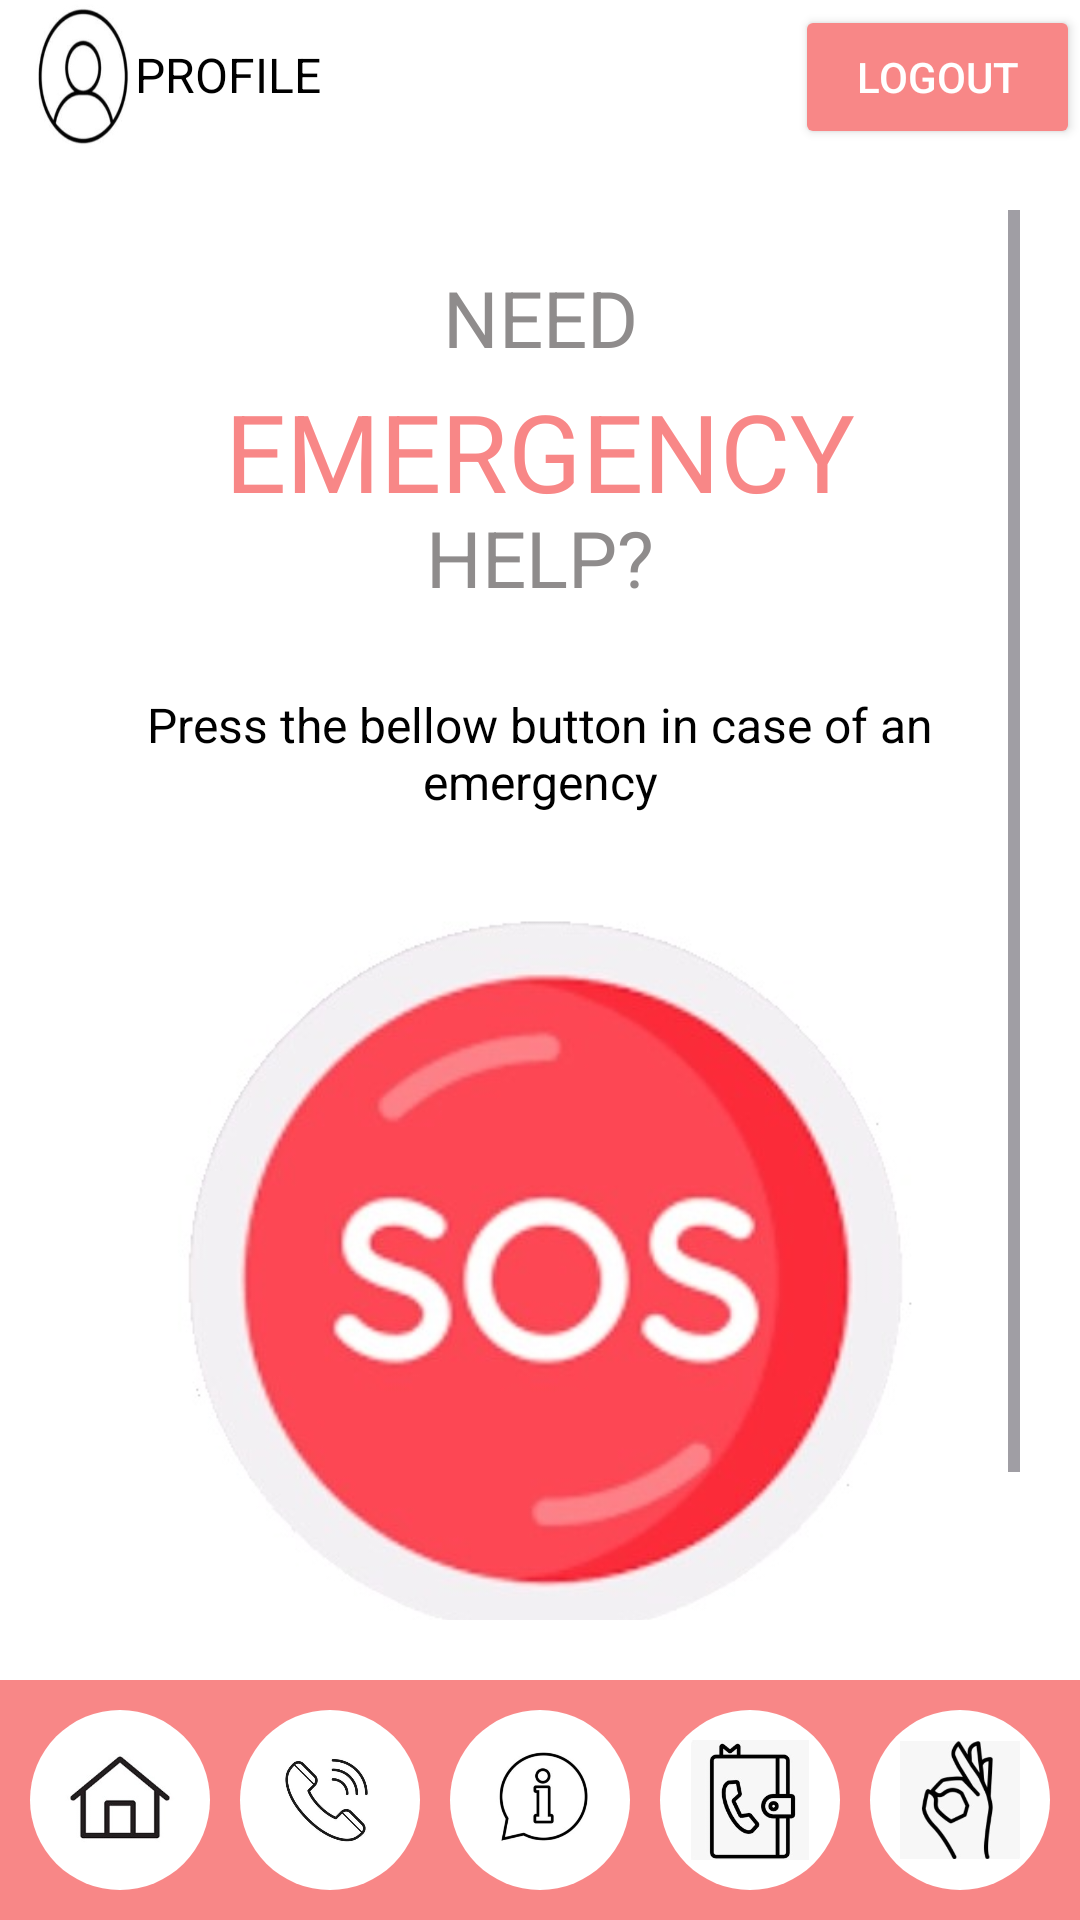

Named icons in this screenshot (1080w x 1920h) and their bounding boxes, (x1, y1, x2, y2):
call: (240, 1710, 420, 1890)
info: (450, 1710, 630, 1890)
